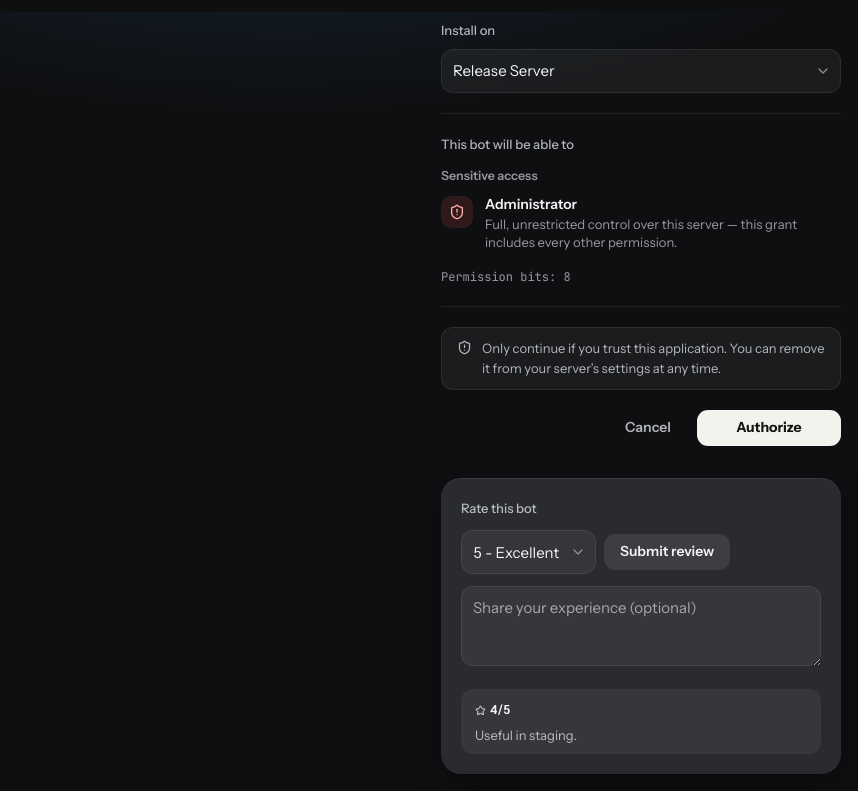
Test: BotAuthorizePage review flow › loads review summary, submits a review, refreshes reviews, and authorizes the bot
(page scrolled)
Expected: the text "Useful in staging." is shown, [475,727,577,743]
Select "5 - Excellent" in the dropdown named "Review rating": (528, 552) [461,530,596,574]
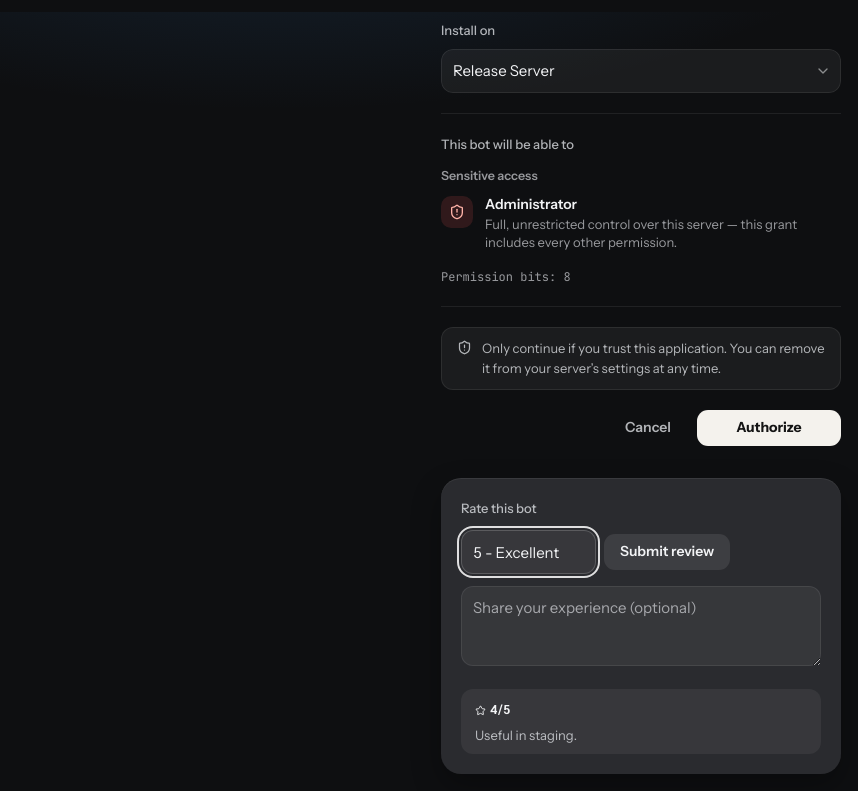
In the text box named "Review body": (641, 626) [461,586,821,666], type "Solid bot for launch rehearsals."
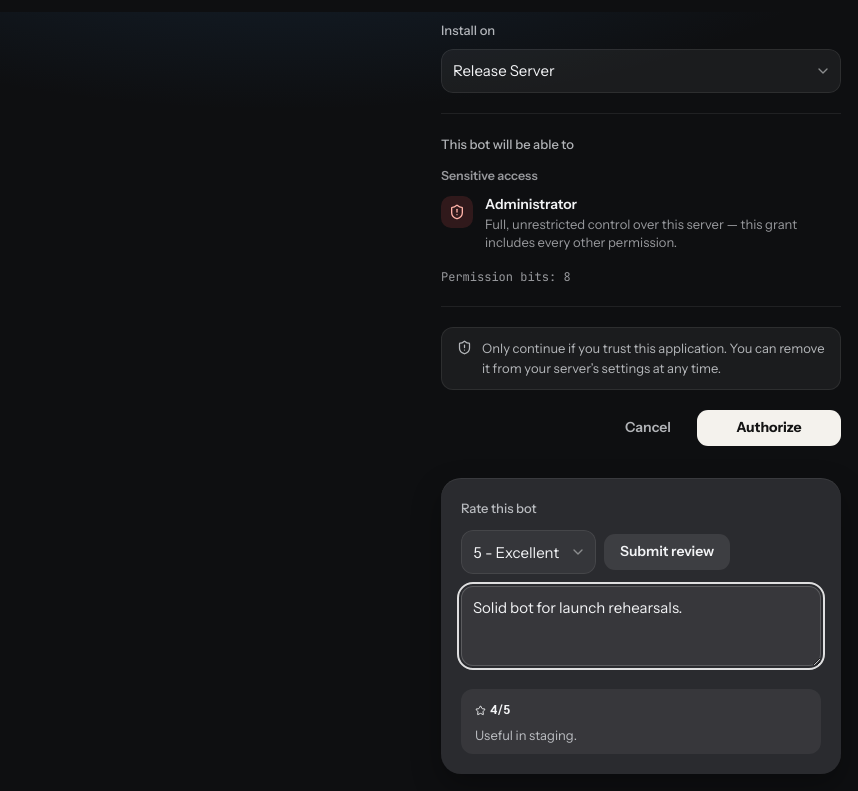
Click the button "Submit review": (667, 552) [604,534,730,570]
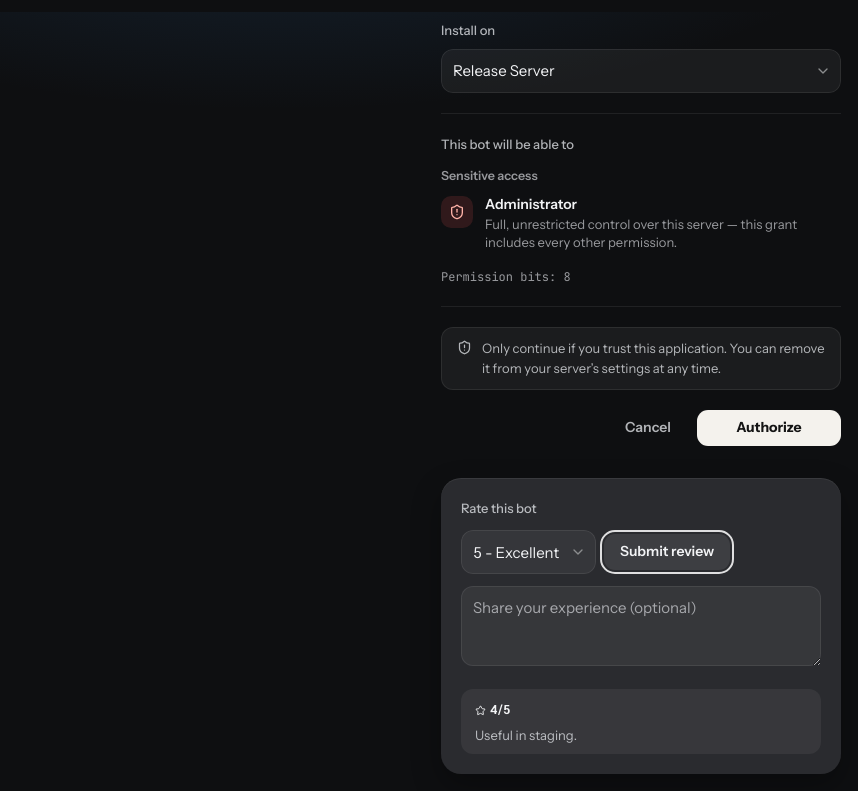
Result: the text box named "Review body" is empty at [461,586,821,666]
Click the button "Authorize": (769, 428) [697,410,841,446]
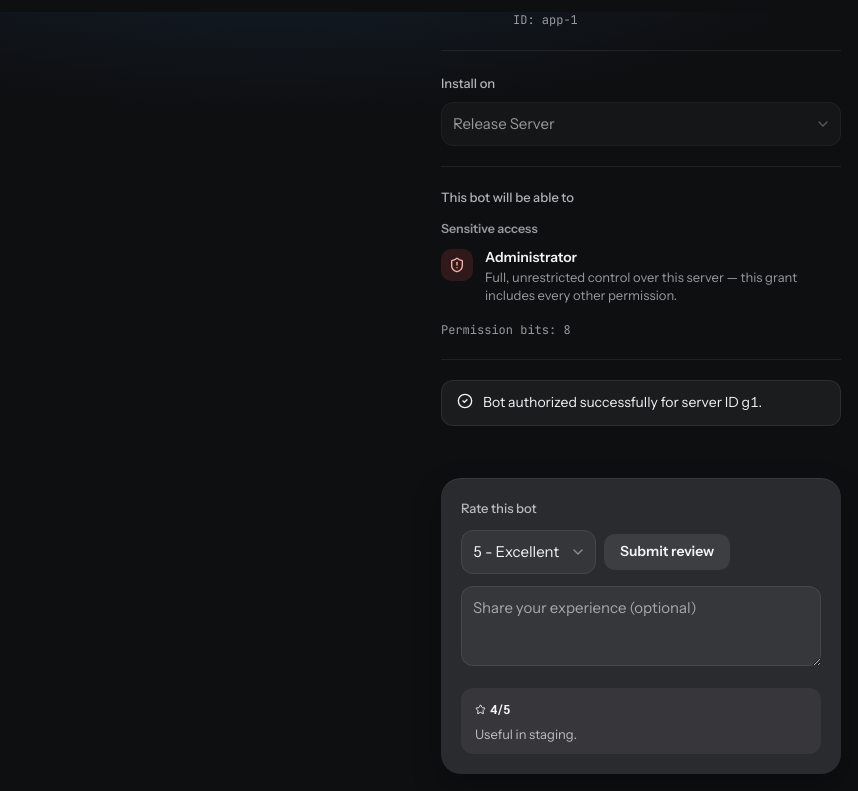
Result: the text "Bot authorized successfully for server ID g1." is shown at [483,392,762,414]
